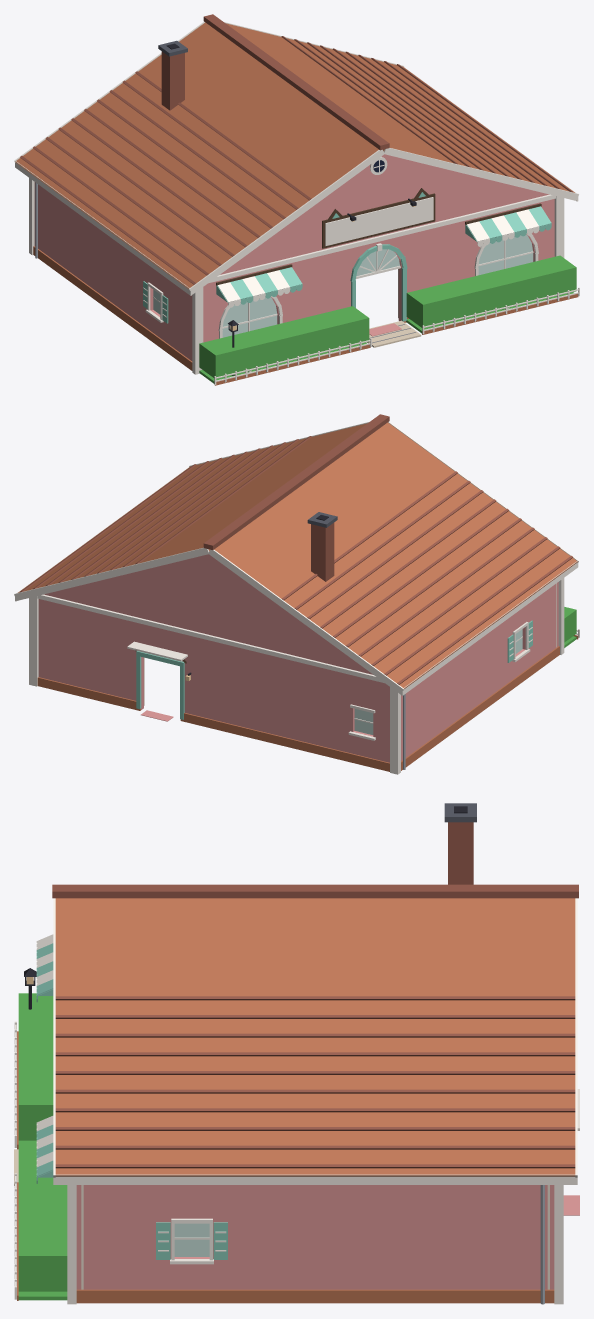
Rendered from CatCafe_Plot_Cafe_Blush_52x40.glb.
3 views of the same model, one above another, from view 1: azimuth 30°, elevation 25°; view 2: azimuth 150°, elevation 25°; view 3: azimuth 270°, elevation 25° (orthographic). The views are drawn at different scales.
Parts seen in each view (by area): view 1: CatCafe_Plot_Cafe_Blush_52x40_Roof, CatCafe_Plot_Cafe_Blush_52x40_Paint, CatCafe_Plot_Cafe_Blush_52x40_Fireflies, CatCafe_Plot_Cafe_Blush_52x40_Trim, CatCafe_Plot_Cafe_Blush_52x40_Roof_Trim, CatCafe_Plot_Cafe_Blush_52x40_Awning, CatCafe_Plot_Cafe_Blush_52x40_Glass, CatCafe_Plot_Cafe_Blush_52x40, CatCafe_Plot_Cafe_Blush_52x40_Garden, CatCafe_Plot_Cafe_Blush_52x40_SignBoard, CatCafe_Plot_Cafe_Blush_52x40_Path, CatCafe_Plot_Cafe_Blush_52x40_Flowers; view 2: CatCafe_Plot_Cafe_Blush_52x40_Roof, CatCafe_Plot_Cafe_Blush_52x40_Paint, CatCafe_Plot_Cafe_Blush_52x40_Trim, CatCafe_Plot_Cafe_Blush_52x40_Roof_Trim, CatCafe_Plot_Cafe_Blush_52x40, CatCafe_Plot_Cafe_Blush_52x40_Glass; view 3: CatCafe_Plot_Cafe_Blush_52x40_Roof, CatCafe_Plot_Cafe_Blush_52x40_Paint, CatCafe_Plot_Cafe_Blush_52x40_Fireflies, CatCafe_Plot_Cafe_Blush_52x40, CatCafe_Plot_Cafe_Blush_52x40_Roof_Trim, CatCafe_Plot_Cafe_Blush_52x40_Trim, CatCafe_Plot_Cafe_Blush_52x40_Awning, CatCafe_Plot_Cafe_Blush_52x40_Garden, CatCafe_Plot_Cafe_Blush_52x40_Glass, CatCafe_Plot_Cafe_Blush_52x40_Wallpaper.
Boxes of the visible parts, x1,y1,x2,y2 form: CatCafe_Plot_Cafe_Blush_52x40_Roof: [15, 14, 574, 288]; CatCafe_Plot_Cafe_Blush_52x40_Paint: [34, 154, 554, 360]; CatCafe_Plot_Cafe_Blush_52x40_Fireflies: [199, 255, 576, 378]; CatCafe_Plot_Cafe_Blush_52x40_Trim: [29, 156, 564, 374]; CatCafe_Plot_Cafe_Blush_52x40_Roof_Trim: [14, 21, 578, 295]; CatCafe_Plot_Cafe_Blush_52x40_Awning: [216, 206, 551, 307]; CatCafe_Plot_Cafe_Blush_52x40_Glass: [153, 234, 533, 337]; CatCafe_Plot_Cafe_Blush_52x40: [33, 160, 533, 370]; CatCafe_Plot_Cafe_Blush_52x40_Garden: [214, 287, 579, 385]; CatCafe_Plot_Cafe_Blush_52x40_SignBoard: [325, 197, 433, 245]; CatCafe_Plot_Cafe_Blush_52x40_Path: [367, 320, 421, 347]; CatCafe_Plot_Cafe_Blush_52x40_Flowers: [199, 292, 573, 383]; CatCafe_Plot_Cafe_Blush_52x40_Roof: [18, 414, 577, 688]; CatCafe_Plot_Cafe_Blush_52x40_Paint: [38, 554, 558, 762]; CatCafe_Plot_Cafe_Blush_52x40_Trim: [29, 578, 564, 774]; CatCafe_Plot_Cafe_Blush_52x40_Roof_Trim: [14, 422, 578, 695]; CatCafe_Plot_Cafe_Blush_52x40: [37, 620, 559, 771]; CatCafe_Plot_Cafe_Blush_52x40_Glass: [354, 629, 522, 734]; CatCafe_Plot_Cafe_Blush_52x40_Roof: [52, 803, 578, 1176]; CatCafe_Plot_Cafe_Blush_52x40_Paint: [76, 1185, 554, 1289]; CatCafe_Plot_Cafe_Blush_52x40_Fireflies: [18, 993, 67, 1291]; CatCafe_Plot_Cafe_Blush_52x40: [76, 1185, 579, 1304]; CatCafe_Plot_Cafe_Blush_52x40_Roof_Trim: [53, 898, 577, 1184]; CatCafe_Plot_Cafe_Blush_52x40_Trim: [67, 1089, 579, 1304]; CatCafe_Plot_Cafe_Blush_52x40_Awning: [36, 934, 53, 1183]; CatCafe_Plot_Cafe_Blush_52x40_Garden: [14, 968, 36, 1300]; CatCafe_Plot_Cafe_Blush_52x40_Glass: [174, 1223, 209, 1256]; CatCafe_Plot_Cafe_Blush_52x40_Wallpaper: [81, 1185, 549, 1289].
Size of the model in its own units: 57.86 by 29.13 by 48.8.
1 material, 1 textured.
